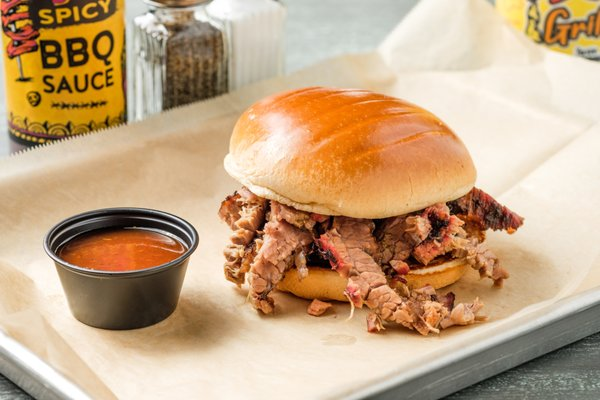soup: (219, 86, 526, 335)
sushi: (43, 206, 199, 331)
